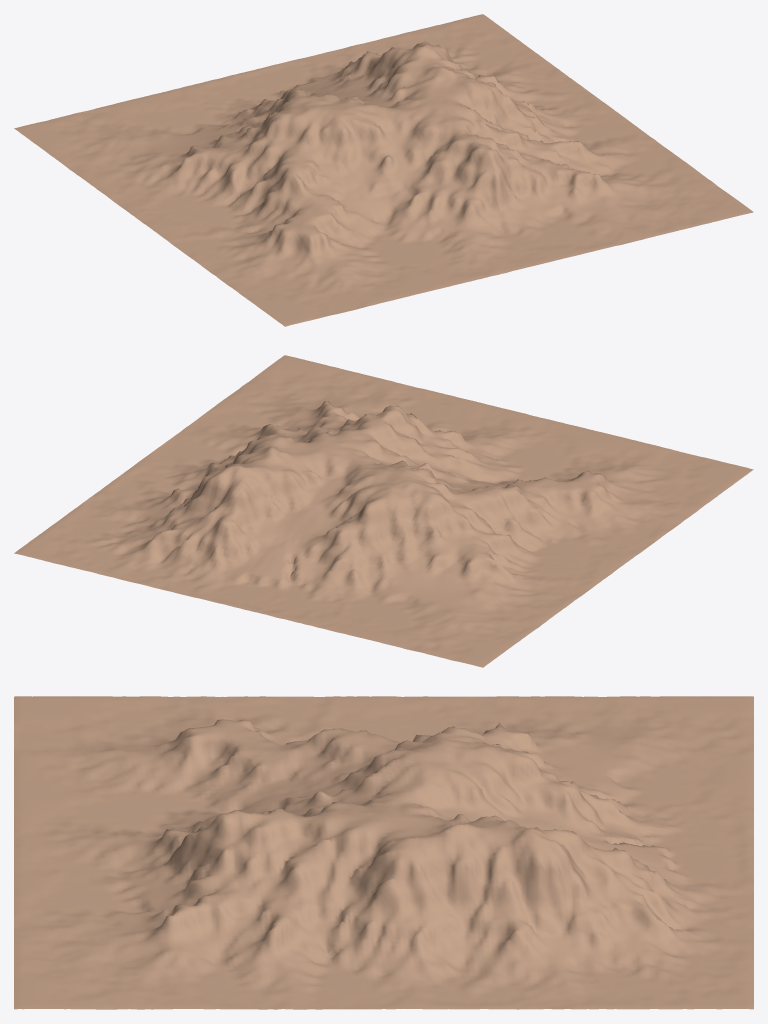
3 renders of one model, top to bottom at view 1: azimuth 30°, elevation 25°; view 2: azimuth 150°, elevation 25°; view 3: azimuth 270°, elevation 25°, orthographic. The views are drawn at different scales.
Parts seen in each view (by area): view 1: DM_lod_3; view 2: DM_lod_3; view 3: DM_lod_3.
Part boxes in pixels (x1=…): DM_lod_3: x1=14, y1=14, x2=753, y2=326; DM_lod_3: x1=14, y1=355, x2=753, y2=667; DM_lod_3: x1=14, y1=696, x2=753, y2=1009.
Bounding box in the file's own units: 300 × 38.51 × 300.
